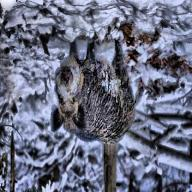boar: (40, 21, 159, 158)
